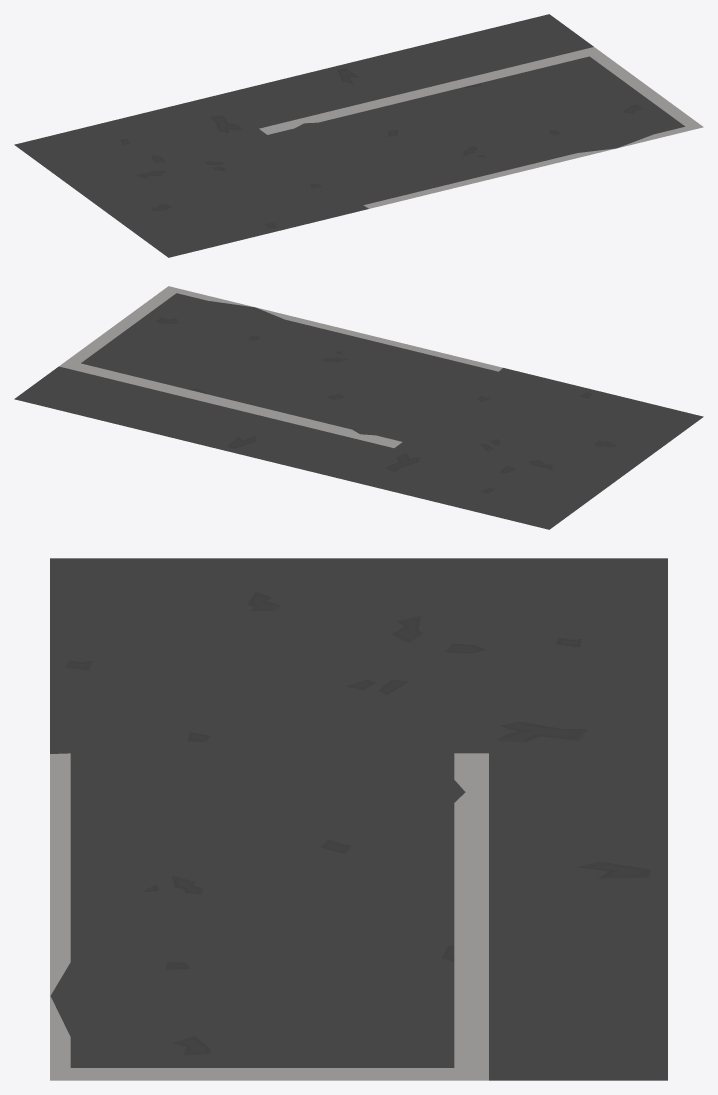
The model's file is SM_Gen_Env_Road_Parking_06.fbx.
The picture shows the model from 3 angles, top to bottom: view 1: azimuth 30°, elevation 25°; view 2: azimuth 150°, elevation 25°; view 3: azimuth 270°, elevation 25°; orthographic projection. The views are drawn at different scales.
Visible parts, largest first — view 1: SM_Gen_Env_Road_Parking_06; view 2: SM_Gen_Env_Road_Parking_06; view 3: SM_Gen_Env_Road_Parking_06.
Boxes of the visible parts, x1,y1,x2,y2 form: SM_Gen_Env_Road_Parking_06: [14, 14, 703, 257]; SM_Gen_Env_Road_Parking_06: [14, 286, 703, 529]; SM_Gen_Env_Road_Parking_06: [50, 558, 667, 1080].
Bounding box in the file's own units: 1000 × 0.0107 × 500.
